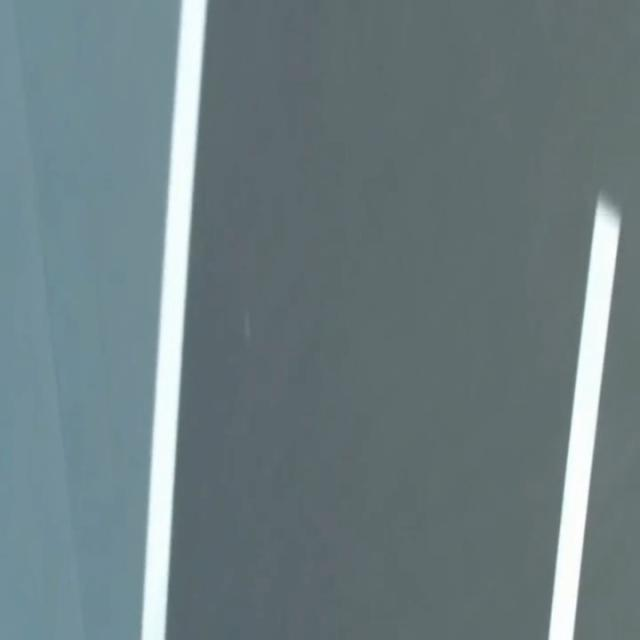center: (548, 196, 620, 639)
left: (140, 0, 207, 639)
